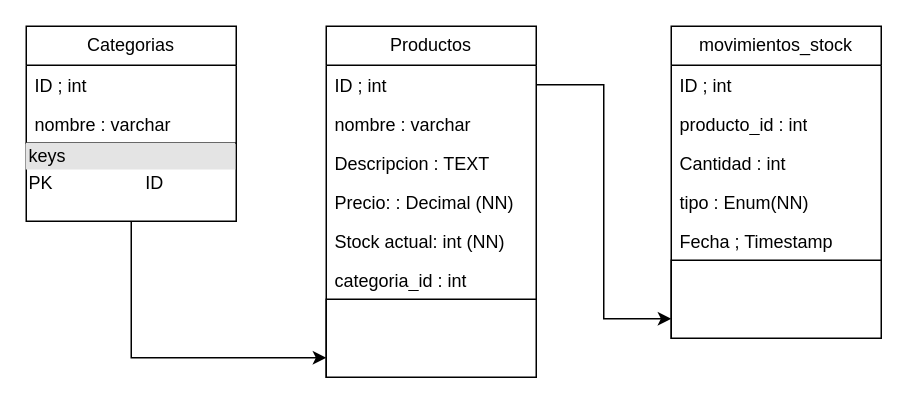
Image size: 908x404. Some labels were removed from this diagram. The shapes that lost their labels are listed below. From the top down, each one's box as (x1, y1, x2, y2) in pixels, then its label:
(670, 259, 881, 338): keys PK ID FK producto_id
(325, 298, 536, 377): keys PK ID FK categoria_id
